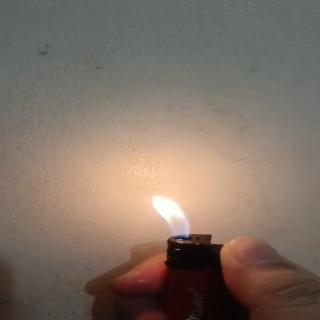fire: (144, 190, 204, 242)
